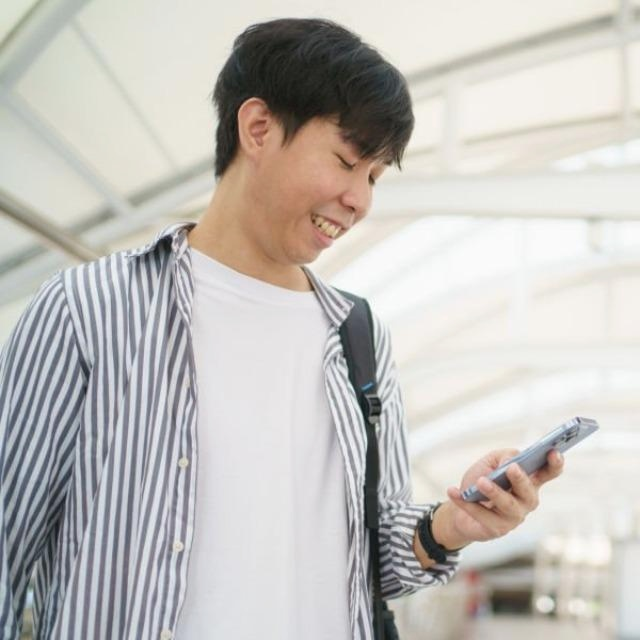Sin_Casco_Mascarrilla: (209, 20, 416, 261)
Sin_Chaleco: (37, 251, 395, 640)
